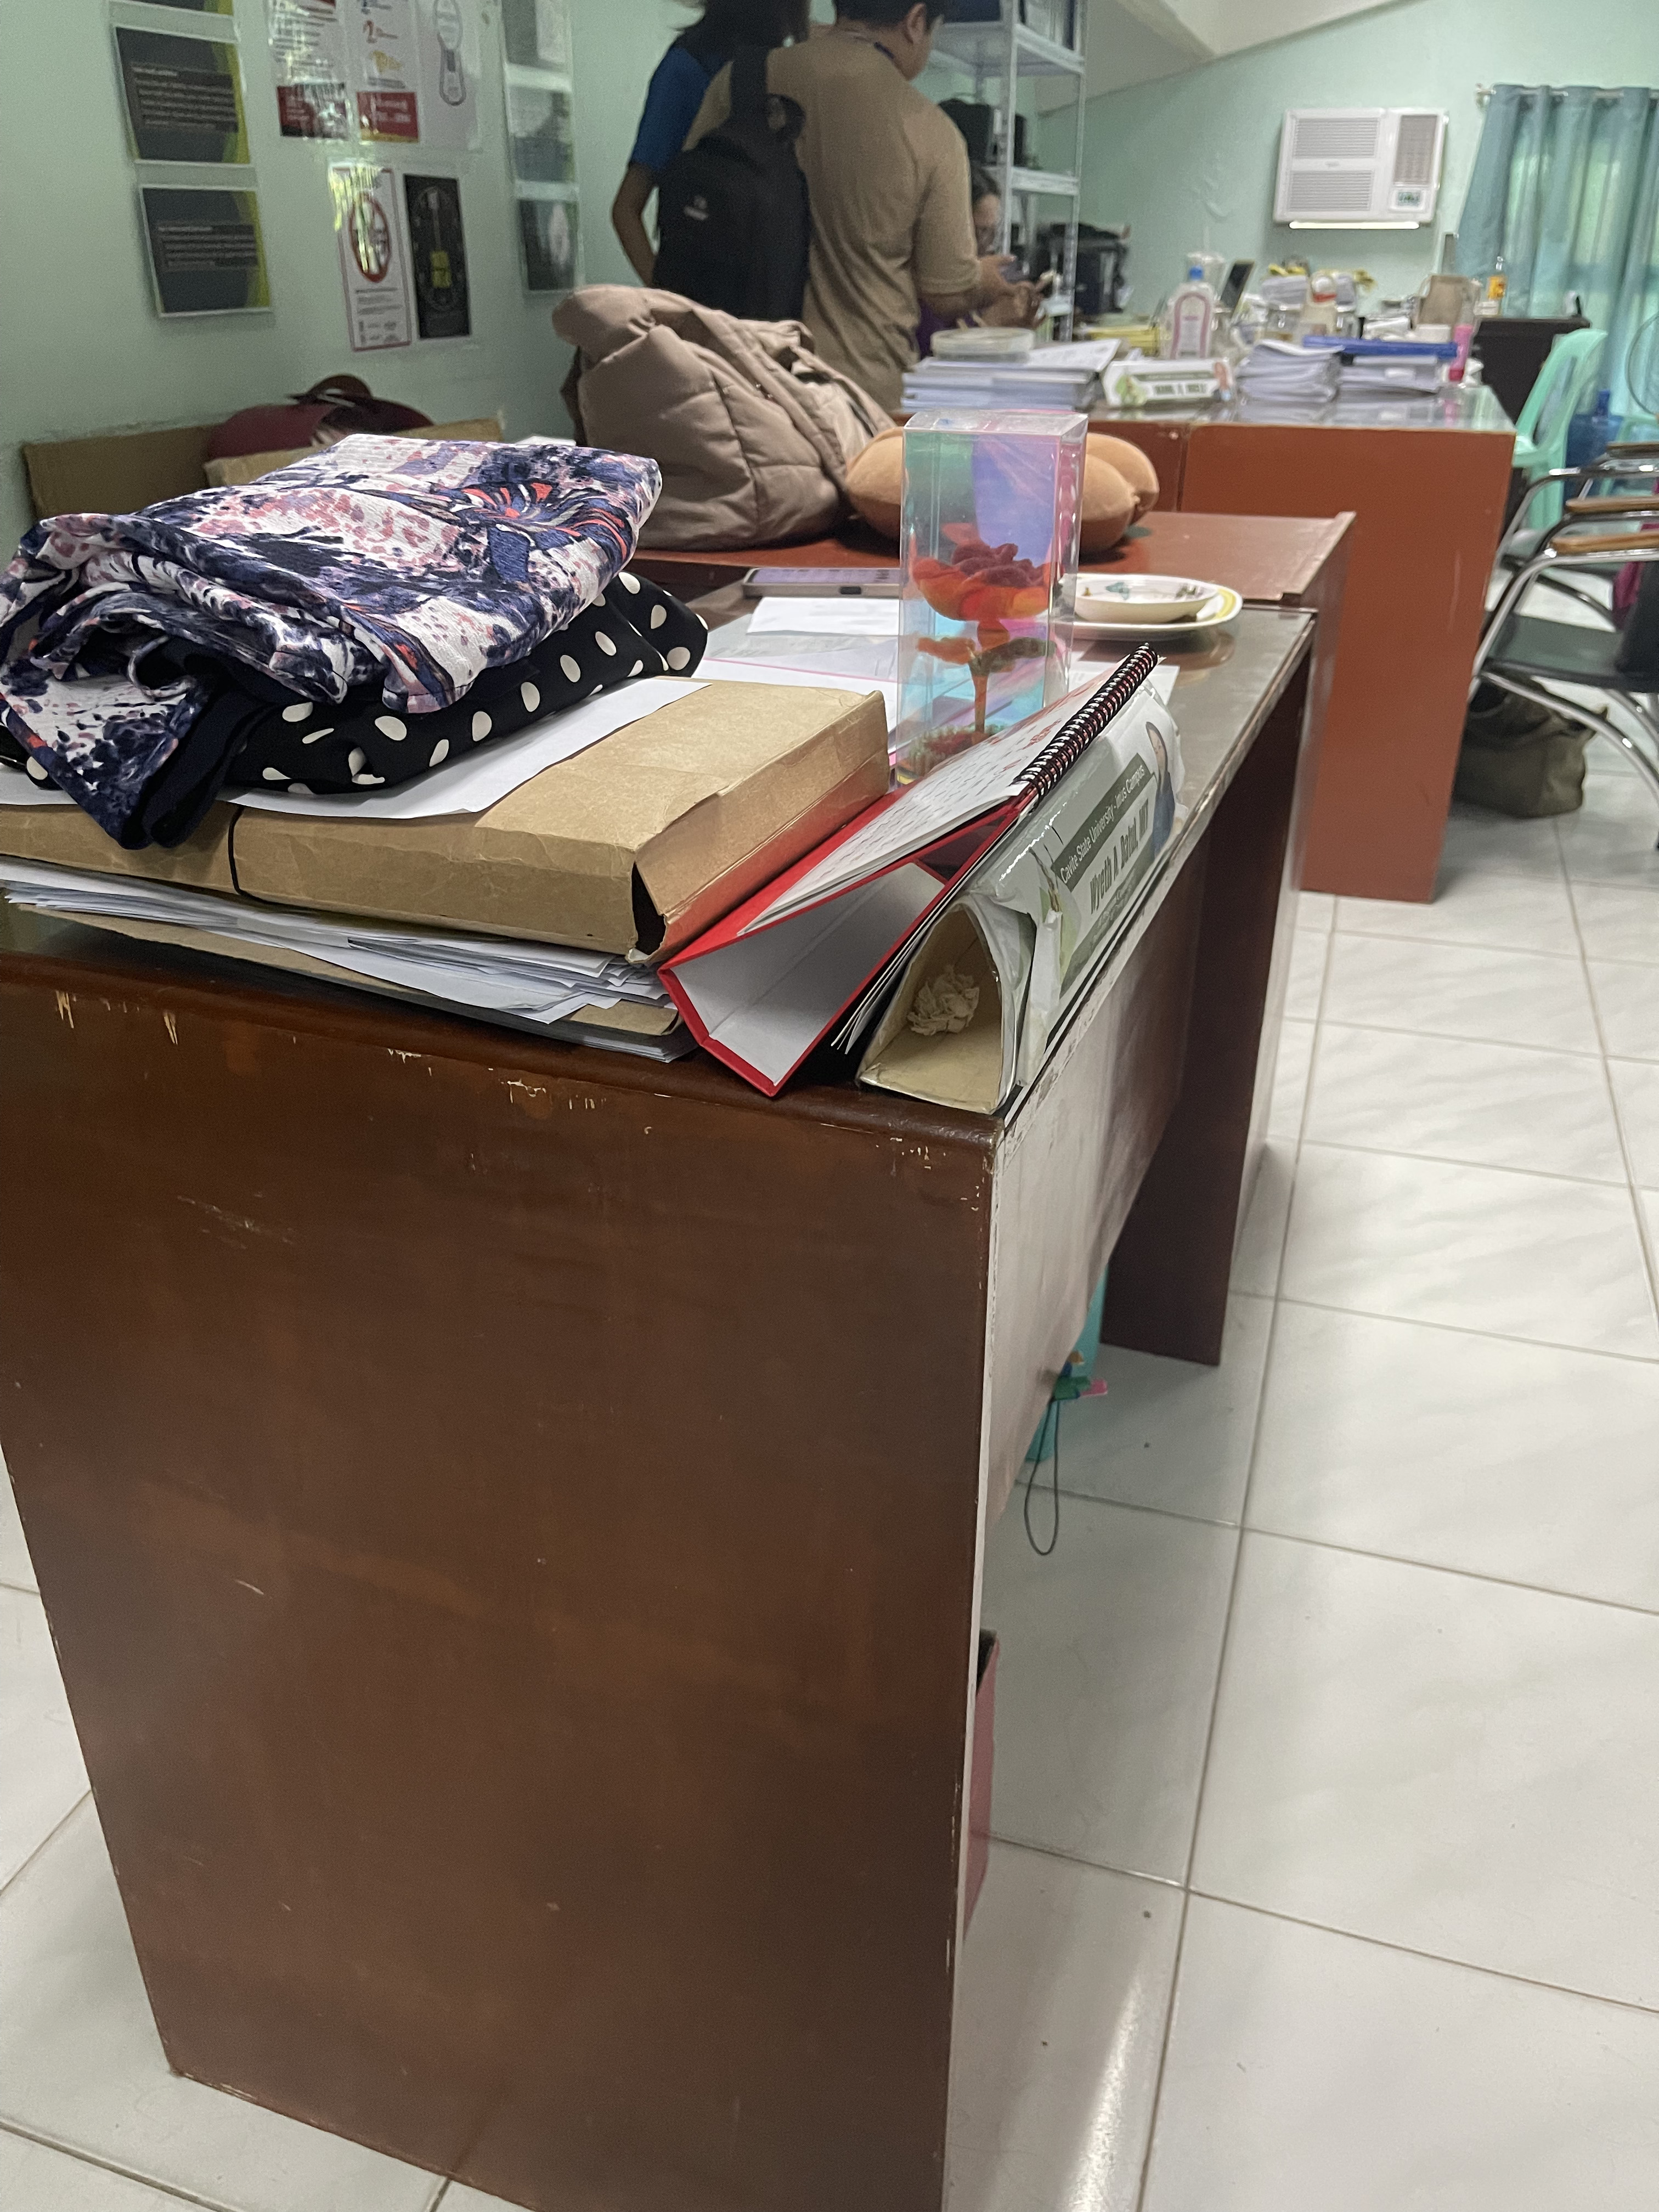table2: (0, 613, 1345, 2212)
